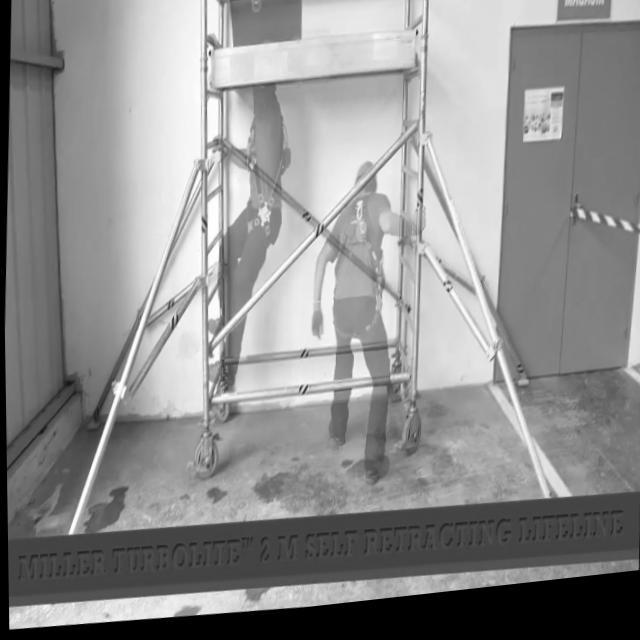belt: (326, 200, 388, 354), (240, 98, 292, 266), (121, 20, 123, 24)
